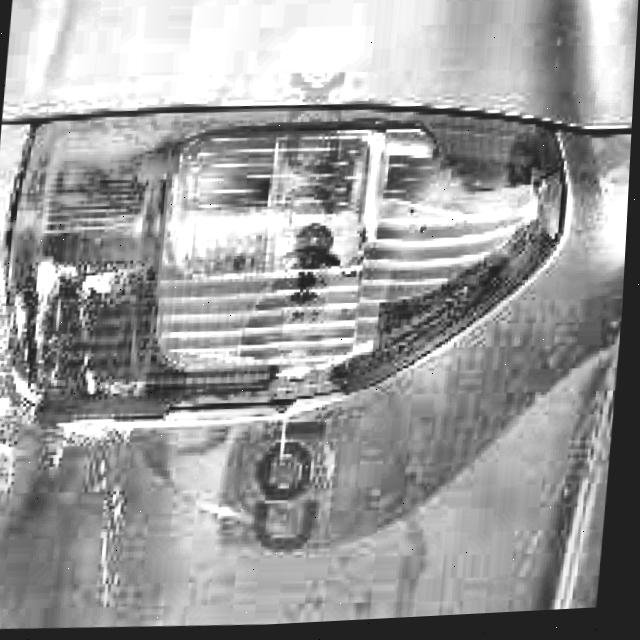tail_lamp: (147, 108, 527, 371)
